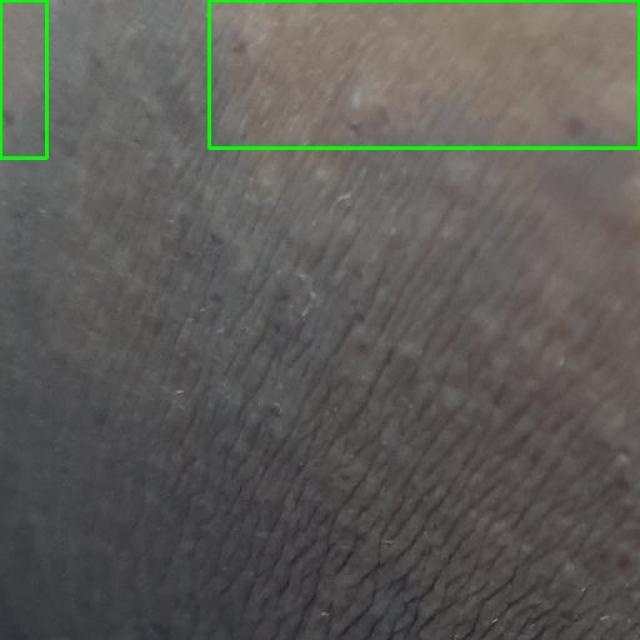Tinea Corporis: (209, 0, 639, 148), (0, 0, 46, 158)
